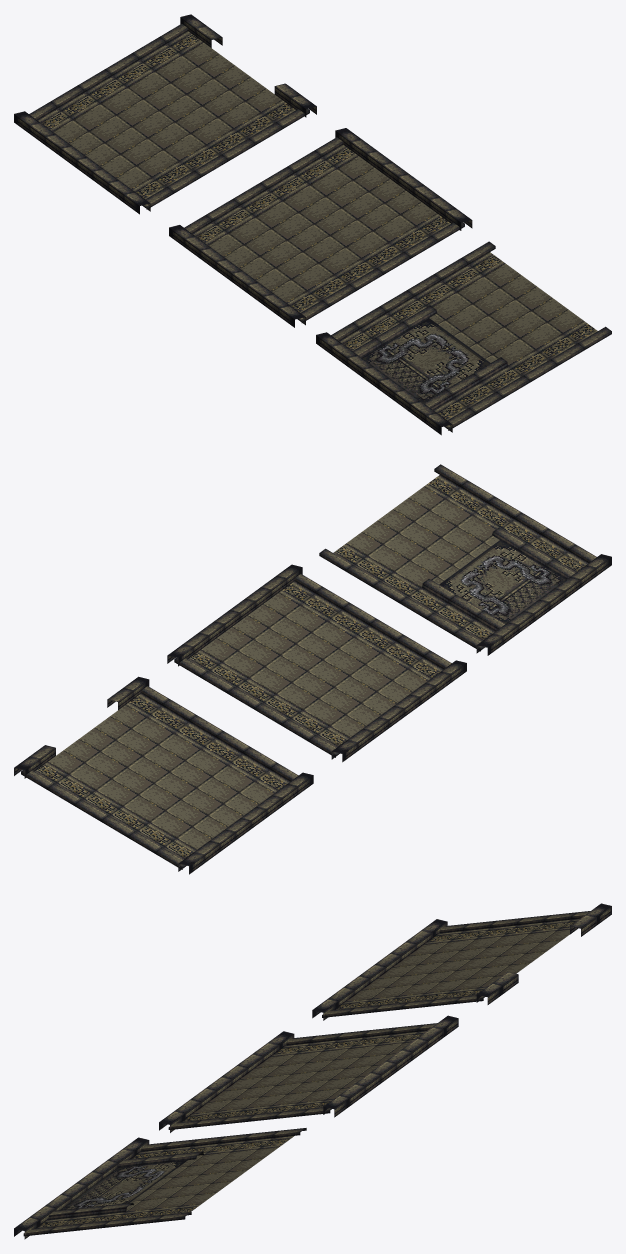
Rendered from EnvMdrMD_Desert_Exterior_WallSlope_A_6D7W.FBX.
3 views of the same model, one above another, from view 1: azimuth 30°, elevation 25°; view 2: azimuth 150°, elevation 25°; view 3: azimuth 330°, elevation 25° (orthographic).
Visible parts, largest first — view 1: EnvMdrMD_Desert_Exterior_WallSlope_A_6D7W, EnvMdrMD_Desert_Exterior_WallSlope_A_6D7W_B, EnvMdrMD_Desert_Exterior_WallSlope_A_Center; view 2: EnvMdrMD_Desert_Exterior_WallSlope_A_6D7W, EnvMdrMD_Desert_Exterior_WallSlope_A_6D7W_B, EnvMdrMD_Desert_Exterior_WallSlope_A_Center; view 3: EnvMdrMD_Desert_Exterior_WallSlope_A_6D7W, EnvMdrMD_Desert_Exterior_WallSlope_A_6D7W_B, EnvMdrMD_Desert_Exterior_WallSlope_A_Center.
Boxes of the visible parts, box(x1,y1,x2,y2) form: EnvMdrMD_Desert_Exterior_WallSlope_A_6D7W: box(169, 128, 472, 327); EnvMdrMD_Desert_Exterior_WallSlope_A_6D7W_B: box(14, 14, 316, 214); EnvMdrMD_Desert_Exterior_WallSlope_A_Center: box(316, 241, 611, 435); EnvMdrMD_Desert_Exterior_WallSlope_A_6D7W: box(167, 564, 466, 762); EnvMdrMD_Desert_Exterior_WallSlope_A_6D7W_B: box(14, 676, 313, 874); EnvMdrMD_Desert_Exterior_WallSlope_A_Center: box(319, 464, 611, 655); EnvMdrMD_Desert_Exterior_WallSlope_A_6D7W: box(159, 1015, 458, 1132); EnvMdrMD_Desert_Exterior_WallSlope_A_6D7W_B: box(312, 903, 611, 1020); EnvMdrMD_Desert_Exterior_WallSlope_A_Center: box(14, 1128, 306, 1239).
Bounding box in the file's own units: 650 × 228 × 2718.
1 material, 1 textured.
